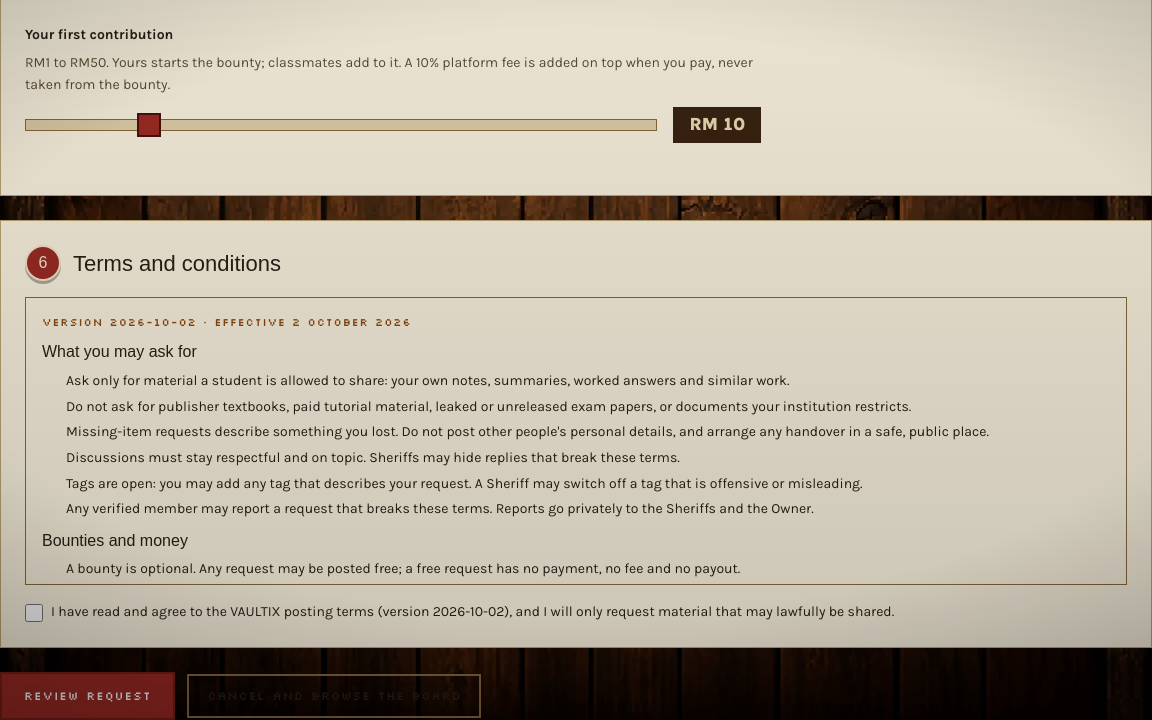
local validation before anything is sent › summarises the failures and takes focus to the summary
This screenshot has width=1152, height=720.
(page scrolled)
Click the button "Review request".
click(88, 696)  # box [0,672,176,719]
(page scrolled)
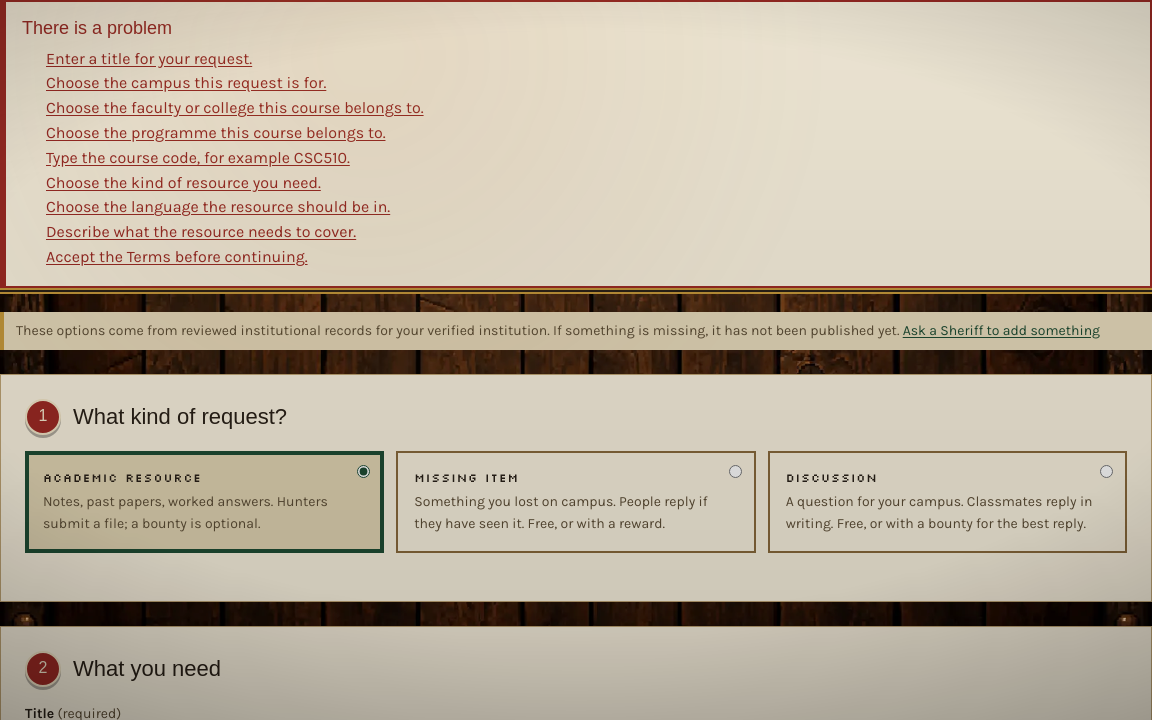
Result: the message shows "There is a problem" at [22,18,172,38]
